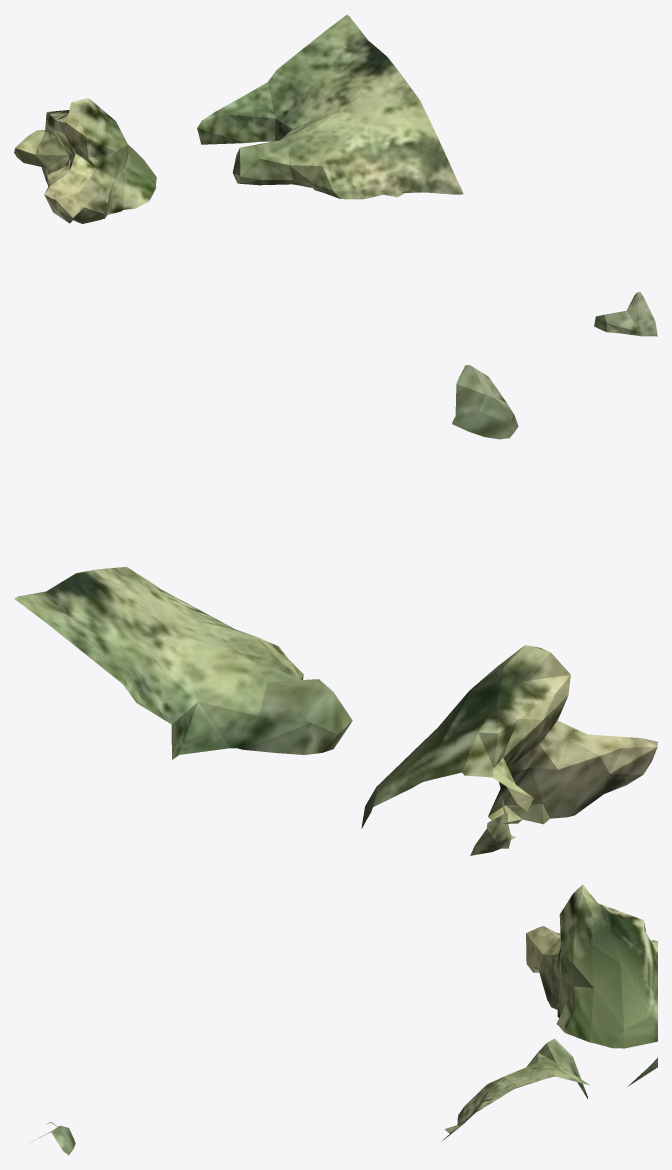
3 views of the same model, one above another, from view 1: azimuth 30°, elevation 25°; view 2: azimuth 150°, elevation 25°; view 3: azimuth 270°, elevation 25° (orthographic). The views are drawn at different scales.
Size of the model in its own units: 7.66 by 2.23 by 11.43.
1 material, 1 textured.
